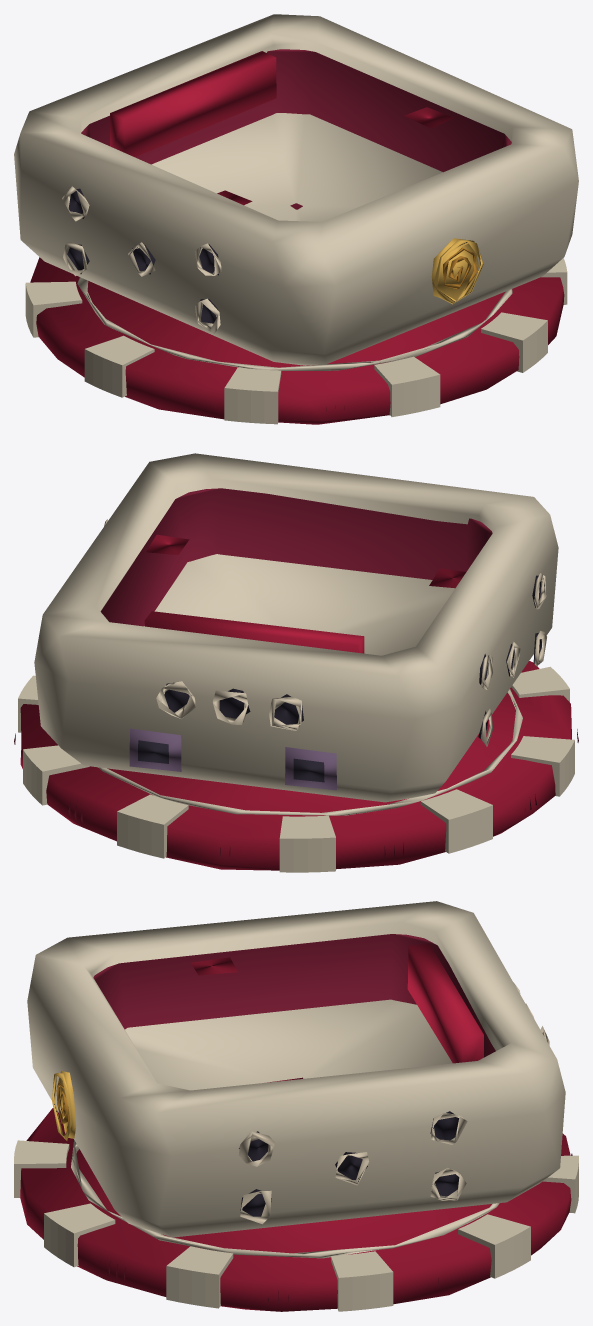
The model's file is kart.body.house-edge.lod1.glb.
The picture shows the model from 3 angles, top to bottom: view 1: azimuth 30°, elevation 25°; view 2: azimuth 150°, elevation 25°; view 3: azimuth 270°, elevation 25°; orthographic projection. The views are drawn at different scales.
Parts seen in each view (by area): view 1: emi_vehicle_house-edge; view 2: emi_vehicle_house-edge; view 3: emi_vehicle_house-edge.
Boxes of the visible parts, bbox=[...] form: emi_vehicle_house-edge: bbox=[14, 14, 578, 424]; emi_vehicle_house-edge: bbox=[14, 453, 578, 872]; emi_vehicle_house-edge: bbox=[14, 901, 578, 1311].
Bounding box in the file's own units: 0.4802 × 0.1855 × 0.48.
